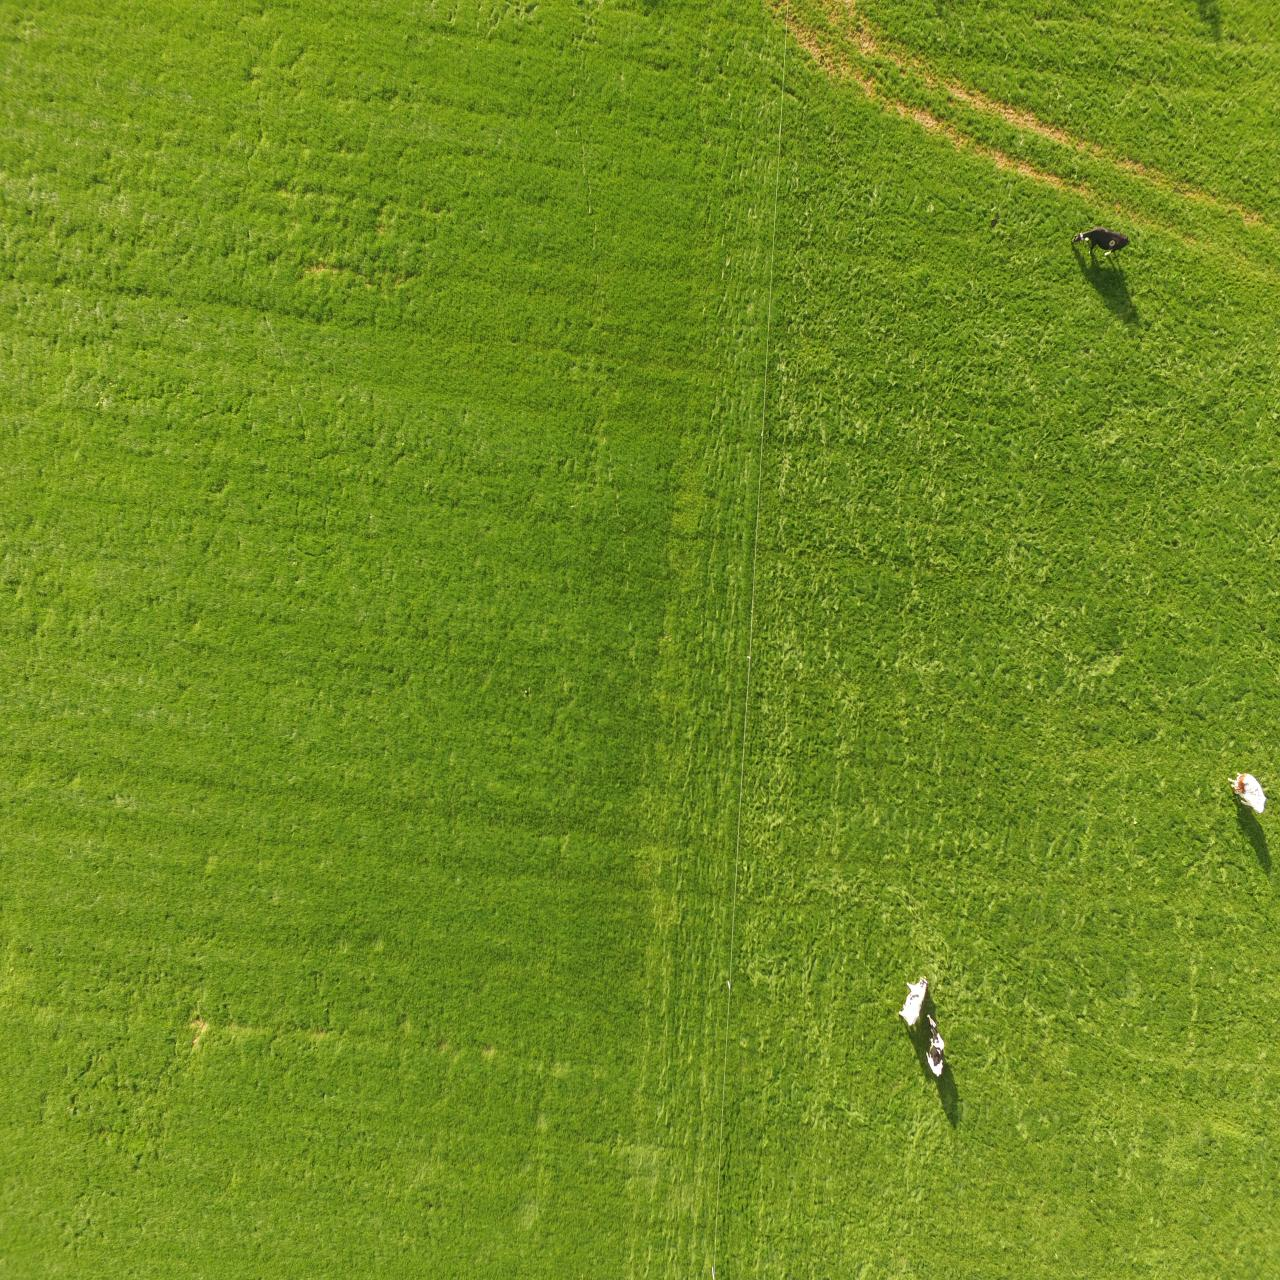cow: (1067, 223, 1130, 257), (1226, 767, 1268, 817), (896, 969, 930, 1028), (920, 1010, 948, 1080)
